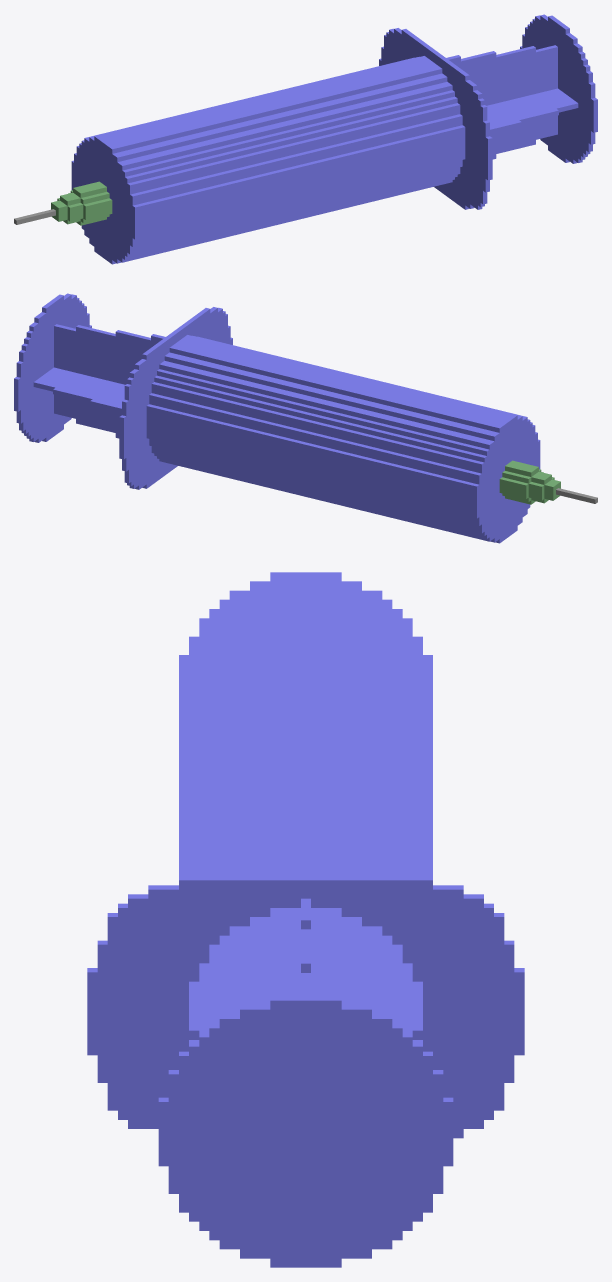
File: HP_Item1-1.fbx
3 views of the same model, one above another, from view 1: azimuth 30°, elevation 25°; view 2: azimuth 150°, elevation 25°; view 3: azimuth 270°, elevation 25° (orthographic). The views are drawn at different scales.
Visible parts, largest first — view 1: HP_Item1-1.000, HP_Item1-1.003; view 2: HP_Item1-1.000, HP_Item1-1.003; view 3: HP_Item1-1.000, HP_Item1-1.003.
Boxes of the visible parts, box(x1,y1,x2,y2) form: HP_Item1-1.000: box(14, 28, 492, 264); HP_Item1-1.003: box(446, 14, 597, 163); HP_Item1-1.000: box(119, 307, 597, 543); HP_Item1-1.003: box(14, 293, 165, 442); HP_Item1-1.000: box(87, 572, 524, 1138); HP_Item1-1.003: box(158, 898, 453, 1267).
Bounding box in the file's own units: 12.4 × 2.9 × 4.3.
